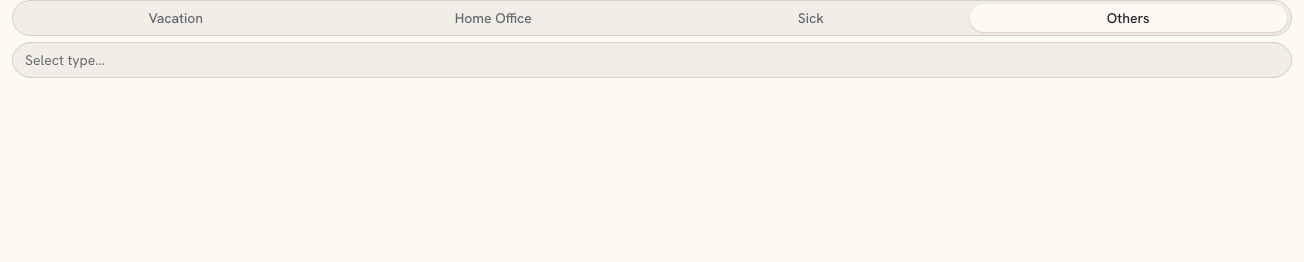
Scenario: CalendarRecordTypePicker › keeps Sick day out of Others by default
Click the dropdown named "Others" at [65, 60], box [12,42,1292,78]
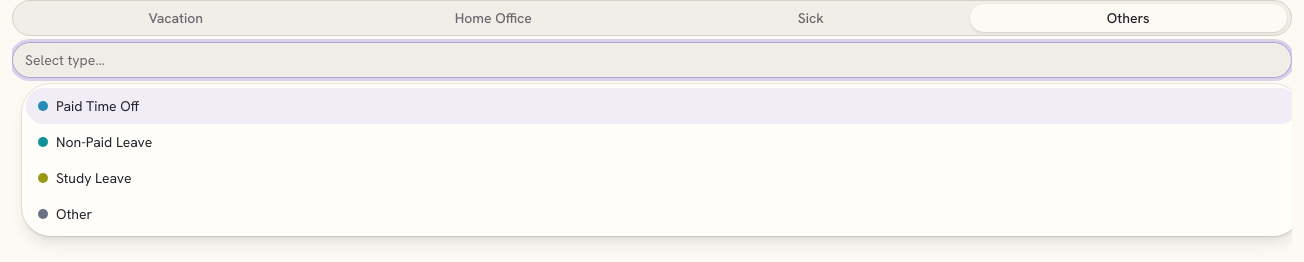
Now the option "Other" is shown, box [38,205,92,223]
